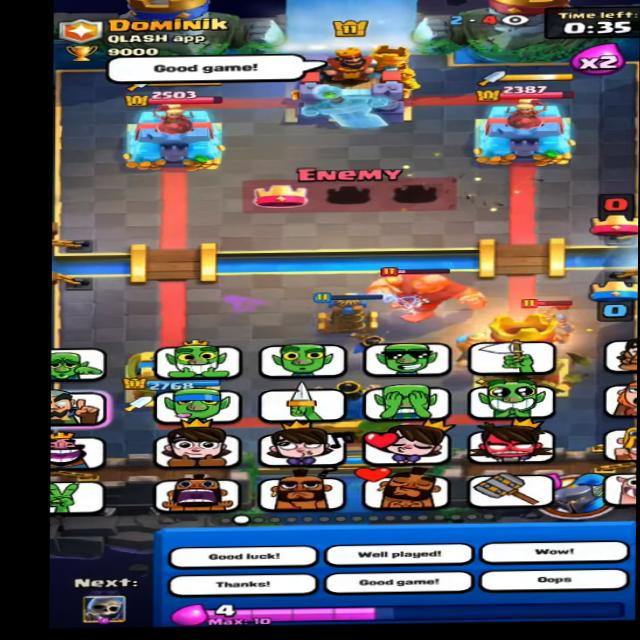giant: (361, 265, 474, 324)
prince: (515, 297, 577, 352)
